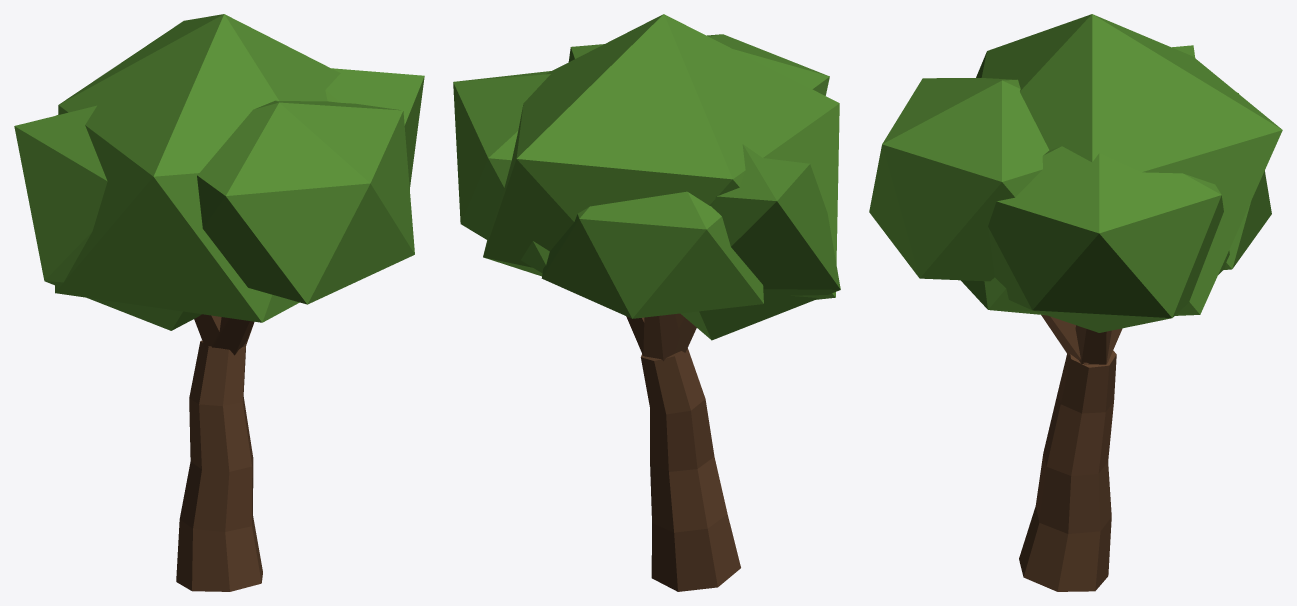
The model's file is Tree_Oak_B.glb.
3 renders of one model, left to right at view 1: azimuth 30°, elevation 25°; view 2: azimuth 150°, elevation 25°; view 3: azimuth 270°, elevation 25°, orthographic. The views are drawn at different scales.
Parts seen in each view (by area): view 1: Tree_Oak_B; view 2: Tree_Oak_B; view 3: Tree_Oak_B.
Boxes of the visible parts, bbox=[...] form: Tree_Oak_B: bbox=[14, 14, 424, 591]; Tree_Oak_B: bbox=[453, 14, 840, 591]; Tree_Oak_B: bbox=[869, 14, 1282, 591].
Size of the model in its own units: 3.09 by 4.33 by 2.83.
